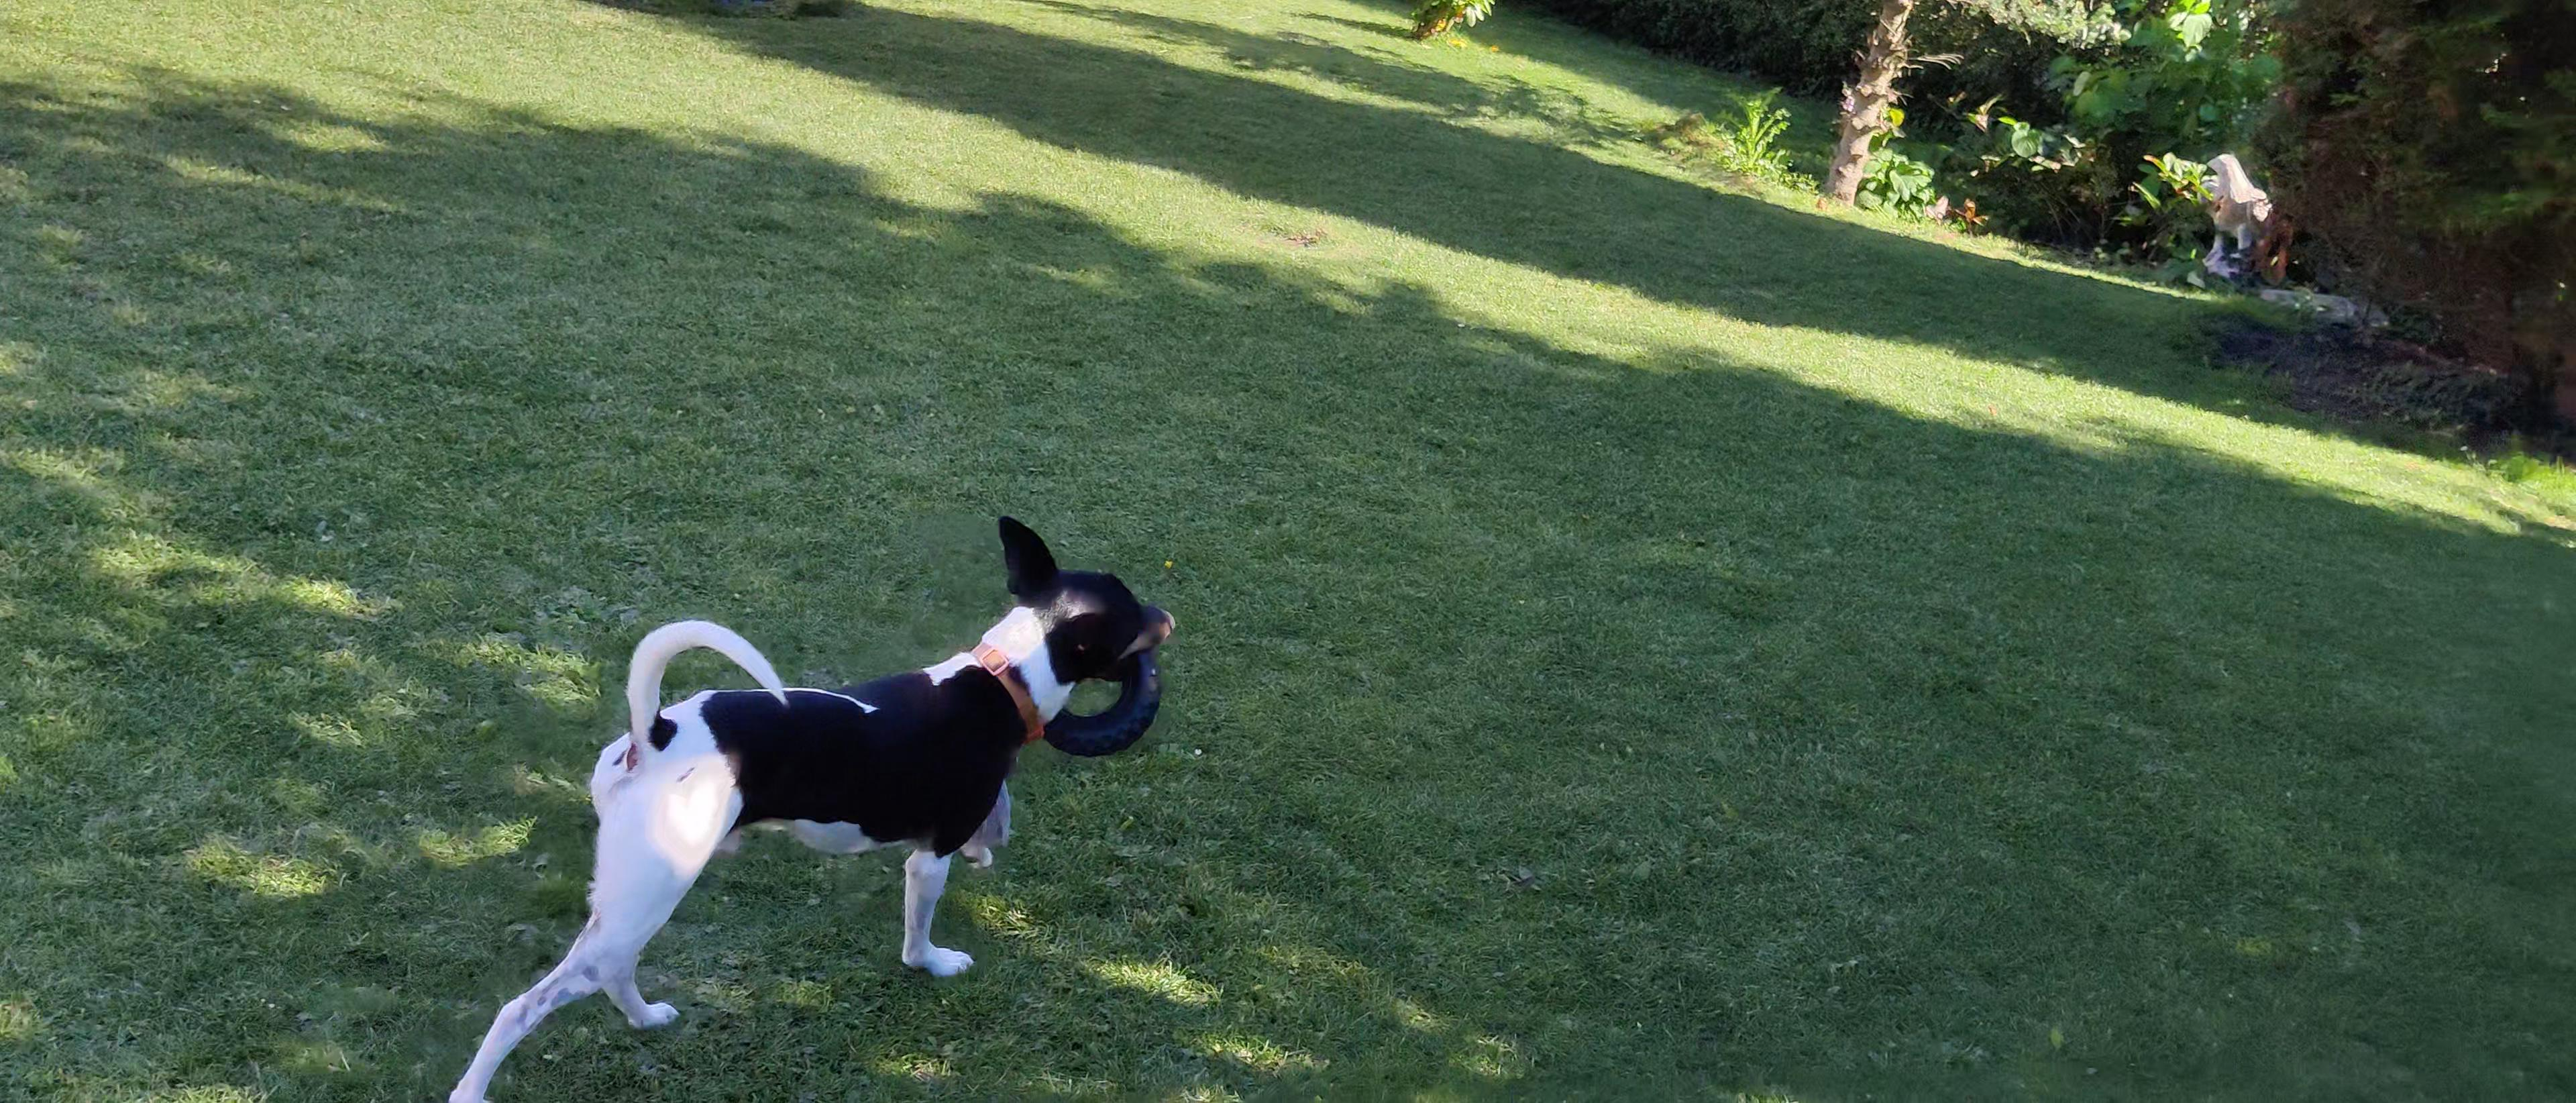Dog: (447, 495, 1181, 1103)
